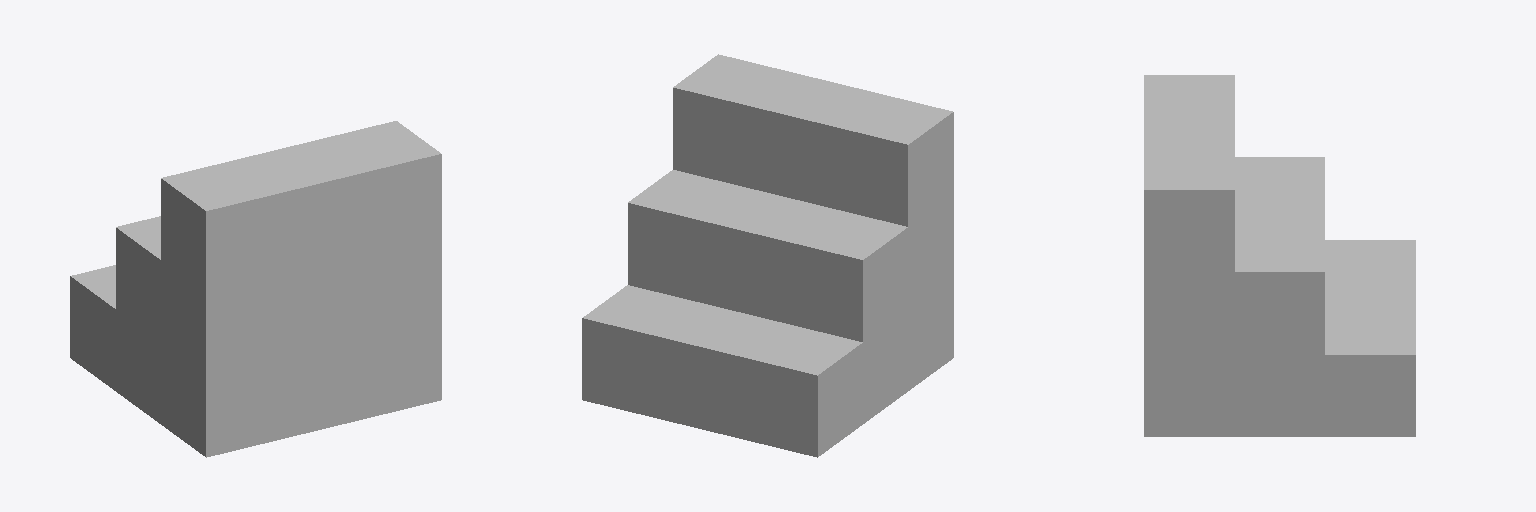
File: Stairs.obj
3 renders of one model, left to right at view 1: azimuth 30°, elevation 25°; view 2: azimuth 150°, elevation 25°; view 3: azimuth 270°, elevation 25°, orthographic.
Parts seen in each view (by area): view 1: Cube.005, Cube.004, Cube.002, Cube.001, Cube.003, Cube; view 2: Cube.001, Cube.005, Cube.003, Cube.002, Cube.004, Cube; view 3: Cube.001, Cube.005, Cube.003, Cube.004, Cube.002, Cube.
Boxes of the visible parts, box(x1,y1,x2,y2) form: Cube.005: box(161, 121, 441, 292); Cube.004: box(161, 236, 441, 375); Cube.002: box(161, 318, 441, 457); Cube.001: box(70, 265, 115, 390); Cube.003: box(116, 216, 160, 341); Cube: box(116, 310, 160, 423); Cube.001: box(582, 285, 862, 457); Cube.005: box(673, 54, 953, 226); Cube.003: box(628, 170, 907, 341); Cube.002: box(908, 276, 953, 390); Cube.004: box(908, 194, 953, 308); Cube: box(863, 310, 907, 423); Cube.001: box(1325, 240, 1415, 436); Cube.005: box(1144, 75, 1234, 271); Cube.003: box(1235, 157, 1324, 354); Cube.004: box(1144, 272, 1234, 354); Cube.002: box(1144, 355, 1234, 436); Cube: box(1235, 355, 1324, 436).
Bounding box in the file's own units: 6 × 6 × 6.